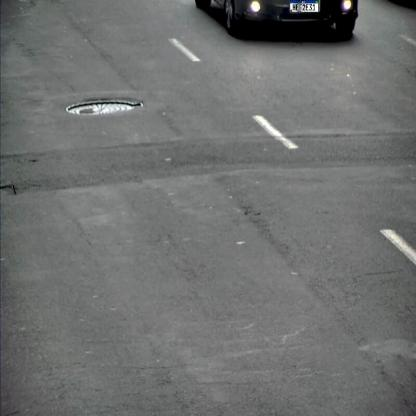PlacaM: (289, 0, 318, 12)
